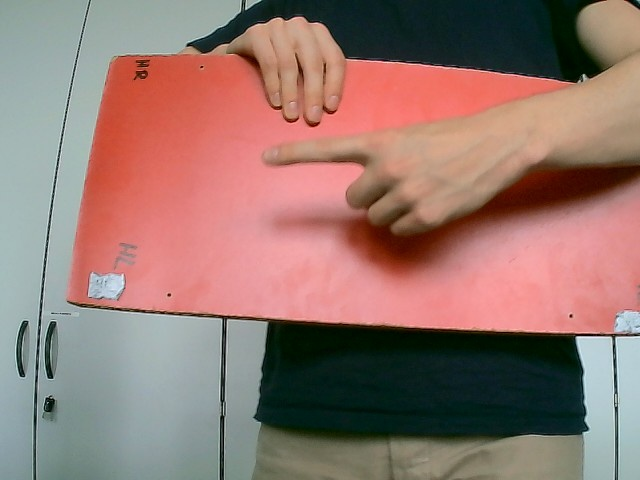no_gesture: (225, 15, 347, 127)
right: (260, 99, 548, 239)
